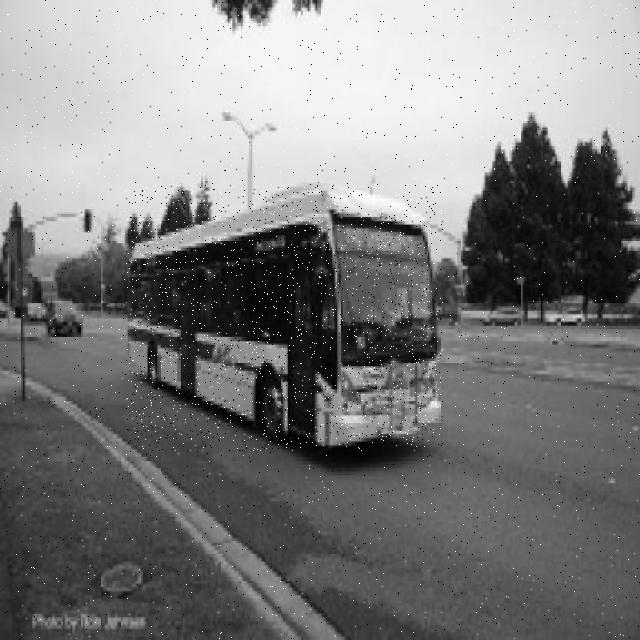Bus: (126, 185, 443, 451)
